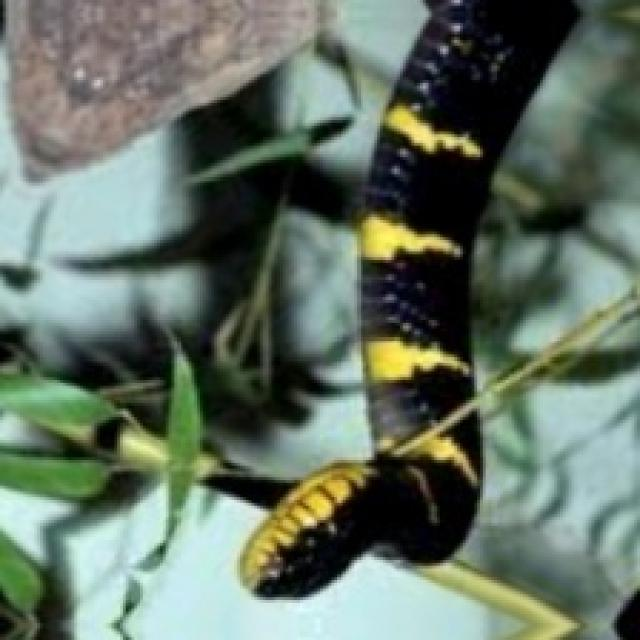mangrove cat snake: (240, 0, 574, 594)
